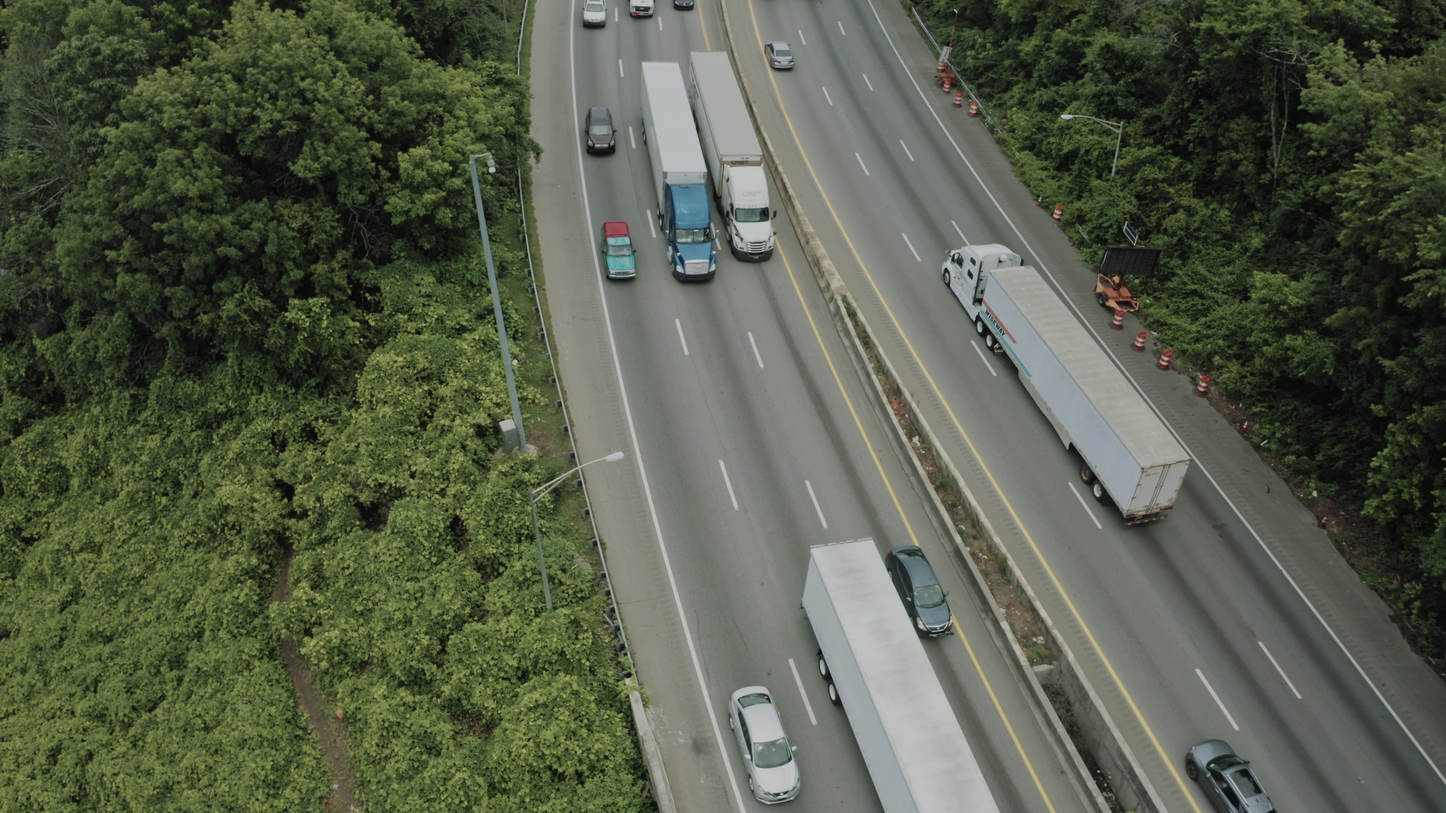Vehicle: (725, 681, 802, 804), (941, 233, 1037, 325), (882, 532, 954, 639), (655, 171, 720, 283), (1185, 739, 1277, 813), (719, 161, 777, 263), (600, 221, 637, 280), (584, 106, 617, 155), (764, 40, 794, 70), (582, 0, 607, 28), (629, 0, 654, 18), (674, 0, 694, 10)
